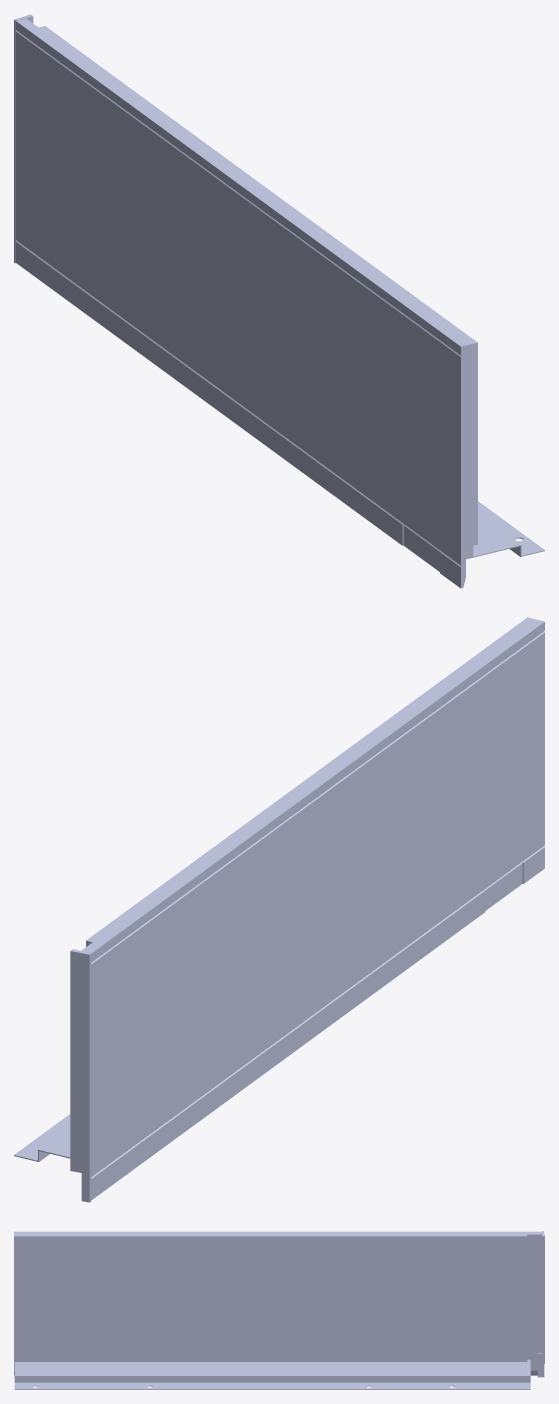
File: lg-kava-C600-p.glb
3 renders of one model, top to bottom at view 1: azimuth 30°, elevation 25°; view 2: azimuth 150°, elevation 25°; view 3: azimuth 270°, elevation 25°, orthographic. The views are drawn at different scales.
Visible parts, largest first — view 1: 47026751; view 2: 47026751; view 3: 47026751.
Boxes of the visible parts, left/top/right/bottom form: 47026751: left=14, top=14, right=544, bottom=588; 47026751: left=14, top=617, right=544, bottom=1202; 47026751: left=14, top=1231, right=544, bottom=1389.
Size of the model in its own units: 0.0653 by 0.1777 by 0.5935.
